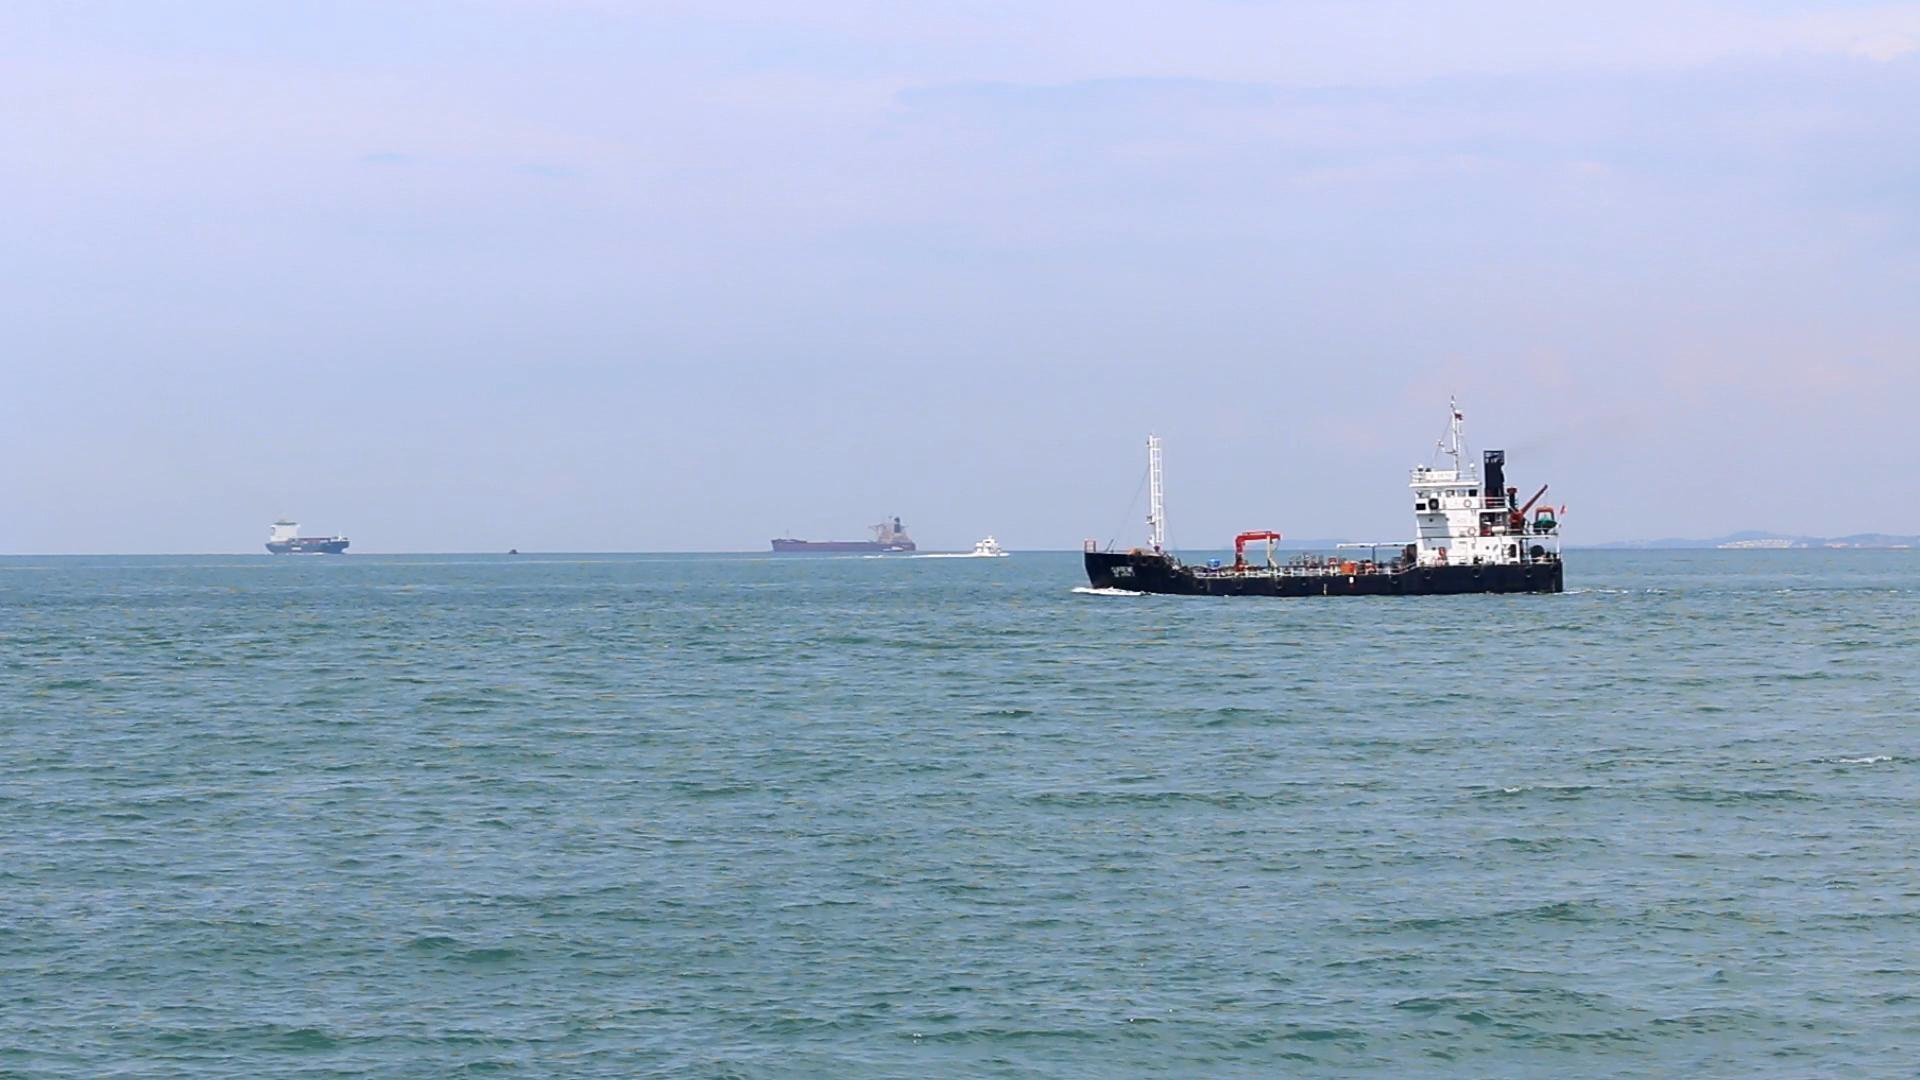Container Ship: (1073, 392, 1573, 600), (770, 506, 924, 563), (260, 509, 353, 555)
